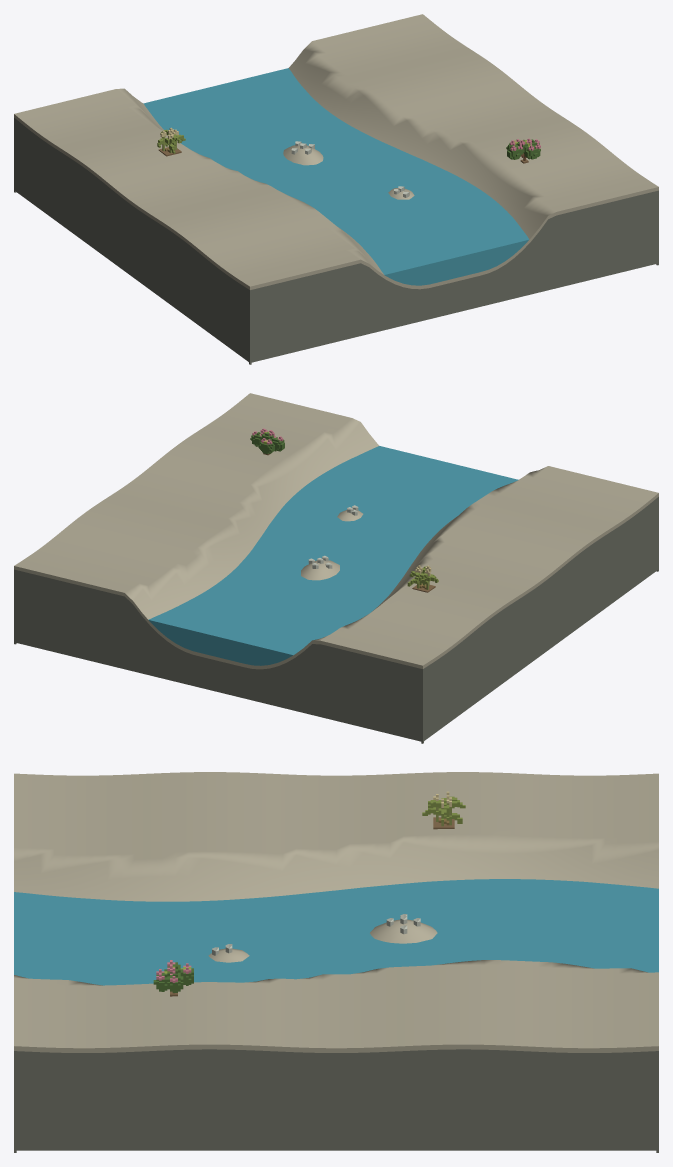
File: visual-far.glb
3 renders of one model, top to bottom at view 1: azimuth 30°, elevation 25°; view 2: azimuth 150°, elevation 25°; view 3: azimuth 270°, elevation 25°, orthographic. The views are drawn at different scales.
Visible parts, largest first — view 1: 连续岩土实体与最小原生岩块, 同源床面裁切的真实水域, 分枝灌木与花灌木母版; view 2: 连续岩土实体与最小原生岩块, 同源床面裁切的真实水域, 分枝灌木与花灌木母版; view 3: 连续岩土实体与最小原生岩块, 同源床面裁切的真实水域, 分枝灌木与花灌木母版, 细茎芦苇组件.
Part boxes in pixels (x1,y1,x2,y2): 连续岩土实体与最小原生岩块: (14, 14, 658, 364); 同源床面裁切的真实水域: (143, 68, 529, 285); 分枝灌木与花灌木母版: (506, 138, 540, 160); 连续岩土实体与最小原生岩块: (14, 393, 658, 743); 同源床面裁切的真实水域: (148, 446, 518, 665); 分枝灌木与花灌木母版: (250, 428, 284, 454); 连续岩土实体与最小原生岩块: (14, 772, 658, 1152); 同源床面裁切的真实水域: (14, 879, 658, 985); 分枝灌木与花灌木母版: (153, 960, 193, 993); 细茎芦苇组件: (422, 791, 465, 826).
Bounding box in the file's own units: 48 × 11.4 × 48.
13 materials, 12 textured.
